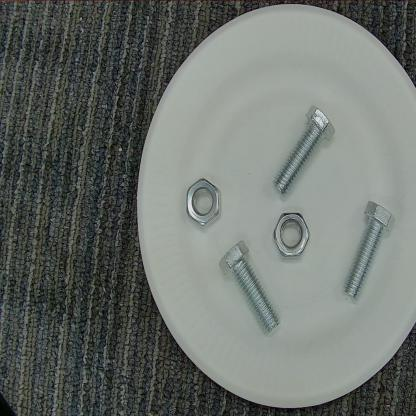FOD: (214, 237, 285, 339), (272, 102, 336, 200), (341, 197, 397, 307), (183, 175, 224, 232), (269, 209, 313, 262)
